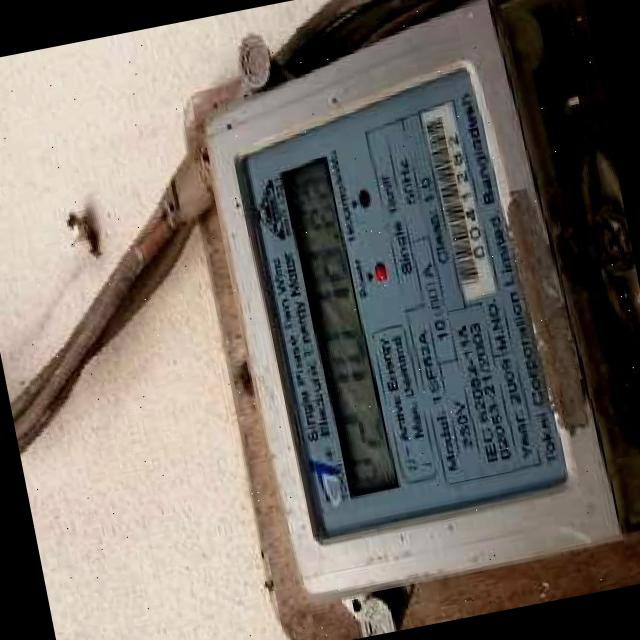LCD: (273, 146, 407, 504)
